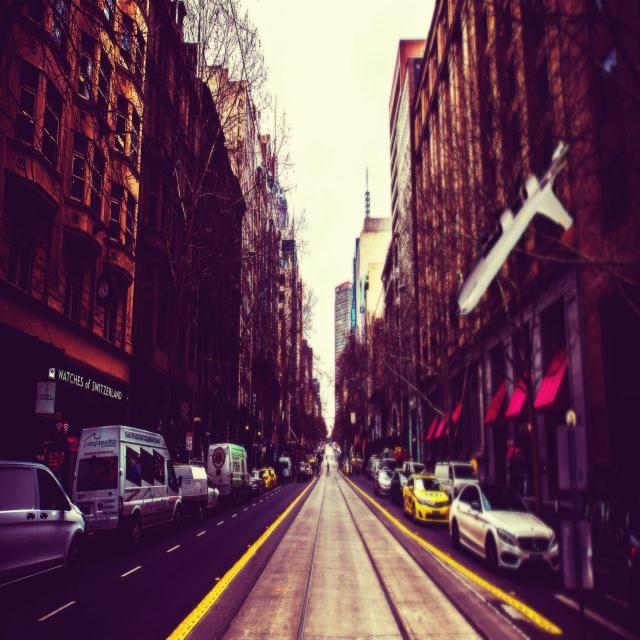airplane: (454, 139, 574, 317)
